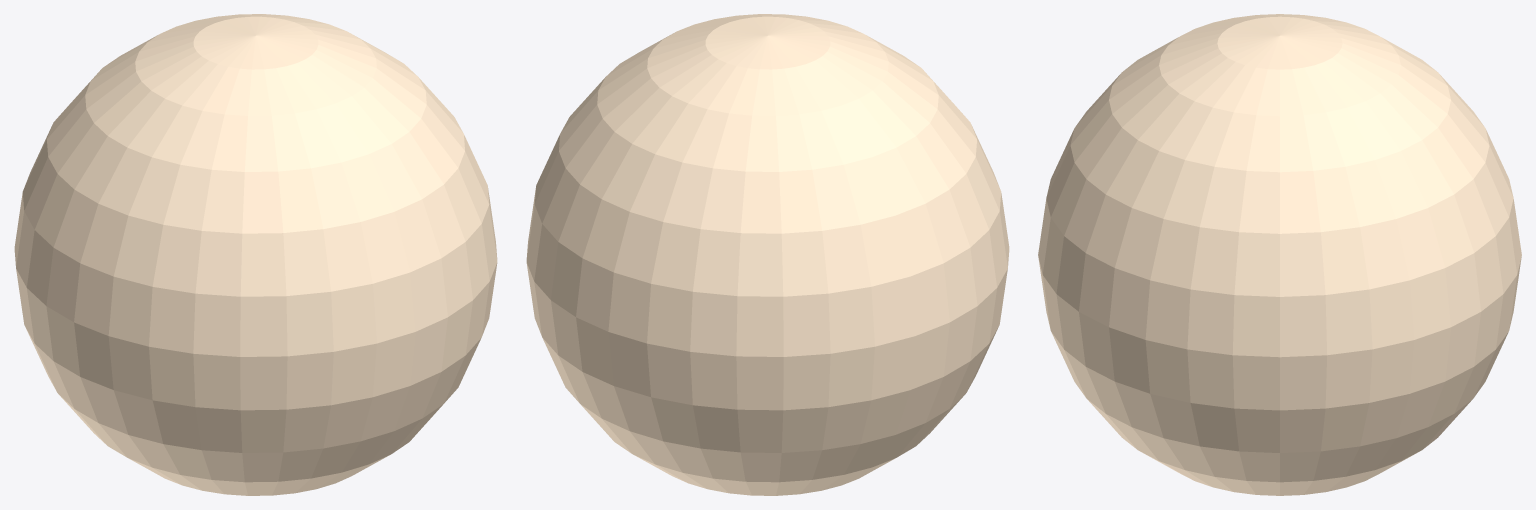
File: jupiter_planet.glb
3 renders of one model, left to right at view 1: azimuth 30°, elevation 25°; view 2: azimuth 150°, elevation 25°; view 3: azimuth 270°, elevation 25°, orthographic.
Visible parts, largest first — view 1: jupiter_planet; view 2: jupiter_planet; view 3: jupiter_planet.
Part boxes in pixels (<box>): jupiter_planet: <box>14,14,497,495</box>; jupiter_planet: <box>526,14,1009,495</box>; jupiter_planet: <box>1038,14,1521,495</box>.
Bounding box in the file's own units: 18.9 × 18.9 × 18.9.
